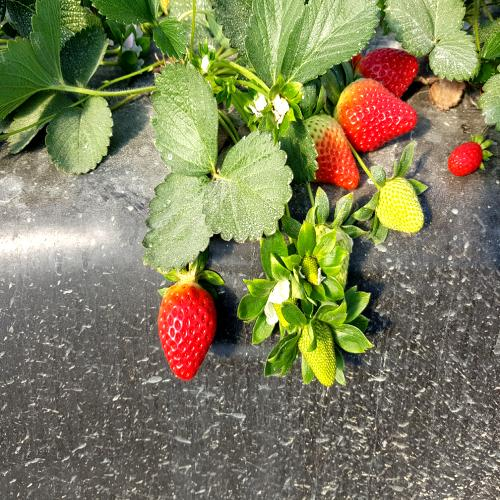partially-ripe: (281, 102, 362, 201)
ripe: (150, 266, 222, 390)
